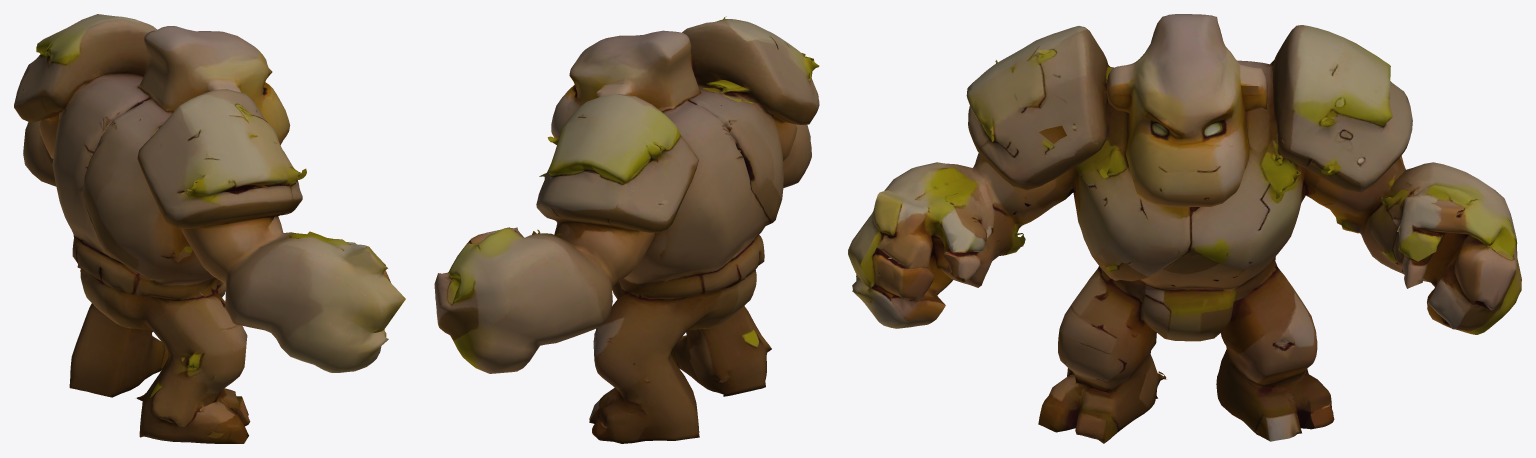
The model's file is monster-brute.glb.
3 renders of one model, left to right at view 1: azimuth 30°, elevation 25°; view 2: azimuth 150°, elevation 25°; view 3: azimuth 270°, elevation 25°, orthographic. The views are drawn at different scales.
Visible parts, largest first — view 1: tripo_node_87e9e83d-e9ef-49d9-9192-9871cff33d2d; view 2: tripo_node_87e9e83d-e9ef-49d9-9192-9871cff33d2d; view 3: tripo_node_87e9e83d-e9ef-49d9-9192-9871cff33d2d.
Part boxes in pixels (x1=…): tripo_node_87e9e83d-e9ef-49d9-9192-9871cff33d2d: x1=14, y1=14, x2=405, y2=443; tripo_node_87e9e83d-e9ef-49d9-9192-9871cff33d2d: x1=434, y1=16, x2=819, y2=443; tripo_node_87e9e83d-e9ef-49d9-9192-9871cff33d2d: x1=848, y1=14, x2=1521, y2=443.
Size of the model in its own units: 0.3759 by 0.6627 by 0.9892.
Materials: 1 (1 with a texture image).
